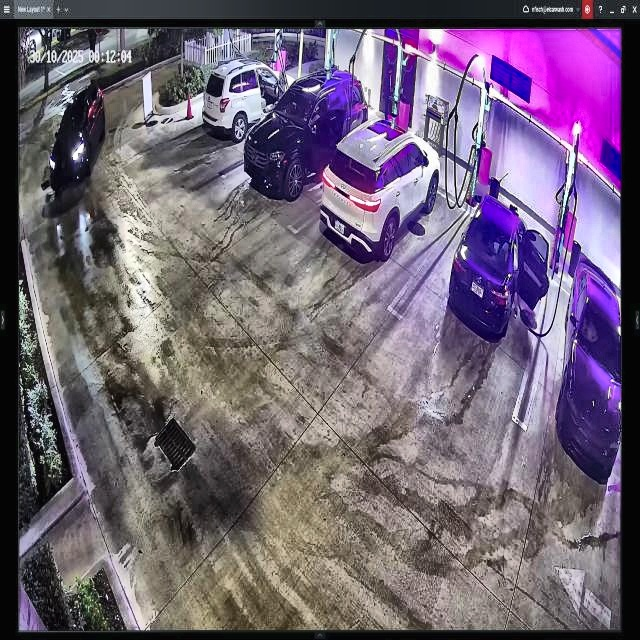Car: (246, 70, 366, 201), (324, 119, 438, 253), (452, 190, 548, 339)
